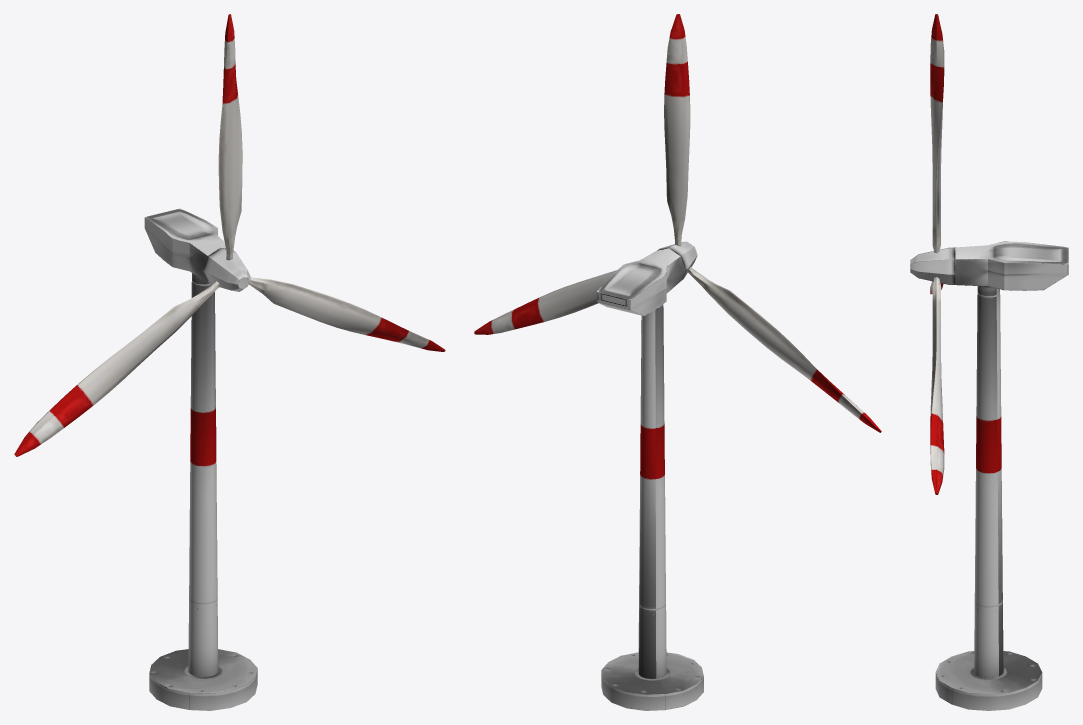
The model's file is wind_turbine.glb.
3 views of the same model, side by side, from view 1: azimuth 30°, elevation 25°; view 2: azimuth 150°, elevation 25°; view 3: azimuth 270°, elevation 25° (orthographic). The views are drawn at different scales.
Parts seen in each view (by area): view 1: Cylinder, Cylinder.006, Cylinder.007, Cylinder.004, Cylinder.001; view 2: Cylinder, Cylinder.004, Cylinder.006, Cylinder.007; view 3: Cylinder, Cylinder.004, Cylinder.007, Cylinder.001.
Part boxes in pixels (<box>): Cylinder: <box>144,208,257,710</box>; Cylinder.006: <box>14,281,220,456</box>; Cylinder.007: <box>249,277,445,351</box>; Cylinder.004: <box>218,14,242,260</box>; Cylinder.001: <box>203,248,250,291</box>; Cylinder: <box>596,248,703,710</box>; Cylinder.004: <box>664,14,690,246</box>; Cylinder.006: <box>688,267,881,432</box>; Cylinder.007: <box>474,270,616,334</box>; Cylinder: <box>935,241,1068,710</box>; Cylinder.004: <box>930,14,944,253</box>; Cylinder.007: <box>930,277,944,494</box>; Cylinder.001: <box>910,247,954,284</box>.
Bounding box in the file's own units: 1.92 × 2.96 × 0.6294.
1 material, 1 textured.
